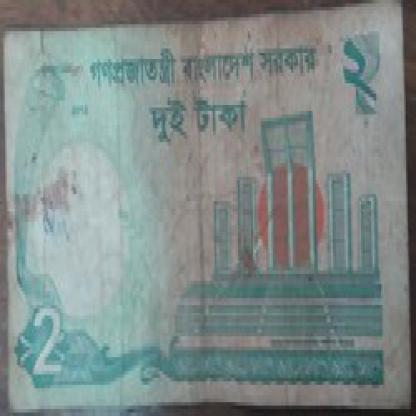two taka: (28, 298, 80, 399), (334, 35, 390, 121)
